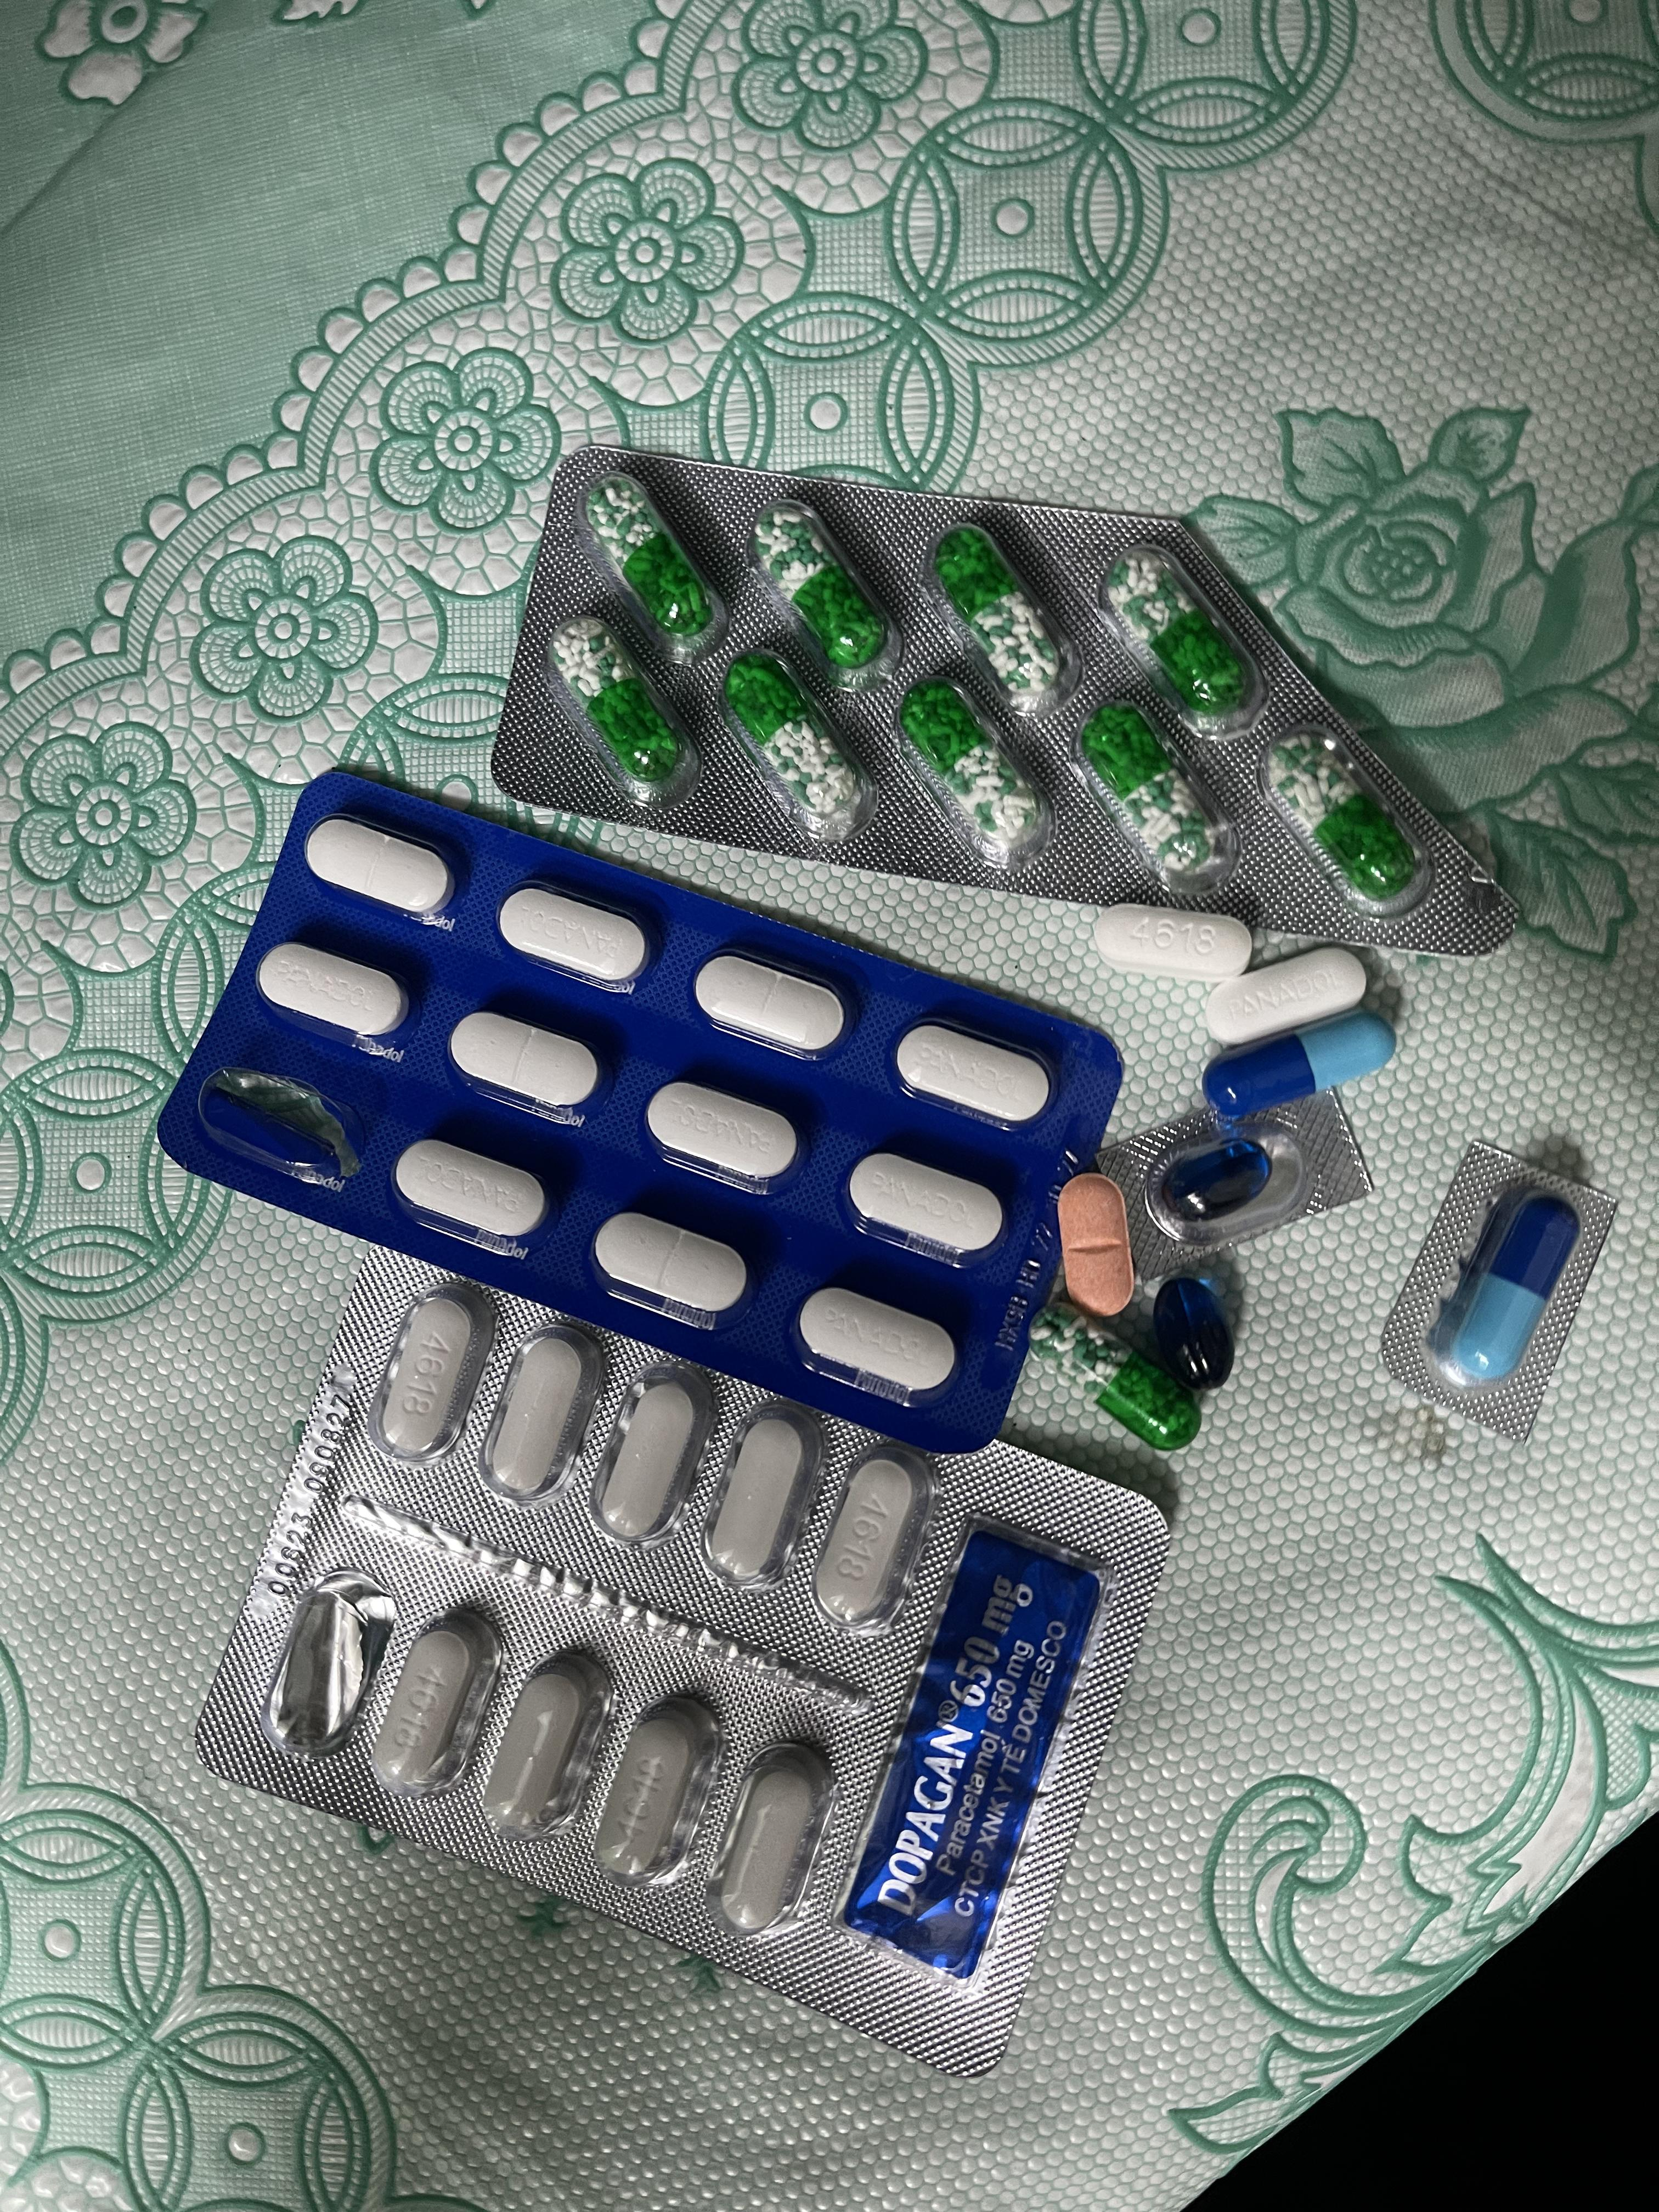Lincomyxin_500mg: (1152, 1275, 1234, 1392), (1162, 1139, 1272, 1223)
Loratadine_10mg: (1058, 1174, 1133, 1313)
Paracetamol_350mg: (850, 1144, 1012, 1261), (798, 1285, 953, 1402), (592, 1212, 749, 1327), (694, 948, 854, 1059), (896, 1019, 1056, 1127), (645, 1080, 800, 1190), (394, 1137, 549, 1247), (450, 1008, 599, 1120), (498, 883, 653, 989), (1204, 948, 1370, 1043), (258, 941, 408, 1045), (305, 815, 453, 918)
Paracetamol_500mg: (373, 1599, 509, 1799), (702, 1737, 836, 1937), (586, 1691, 718, 1890), (483, 1648, 613, 1843), (807, 1435, 938, 1625), (704, 1399, 831, 1587), (366, 1280, 493, 1461), (592, 1362, 718, 1545), (477, 1322, 603, 1501), (1096, 904, 1243, 977)
Paracetamol_650mg: (932, 523, 1087, 725), (547, 611, 702, 812), (579, 472, 730, 672), (753, 500, 901, 688), (1026, 1298, 1201, 1451), (903, 683, 1047, 860), (725, 658, 868, 829), (1079, 702, 1215, 873), (1272, 735, 1415, 895), (1112, 550, 1244, 723)
pill: (1431, 1191, 1581, 1395), (1209, 1014, 1394, 1122)
